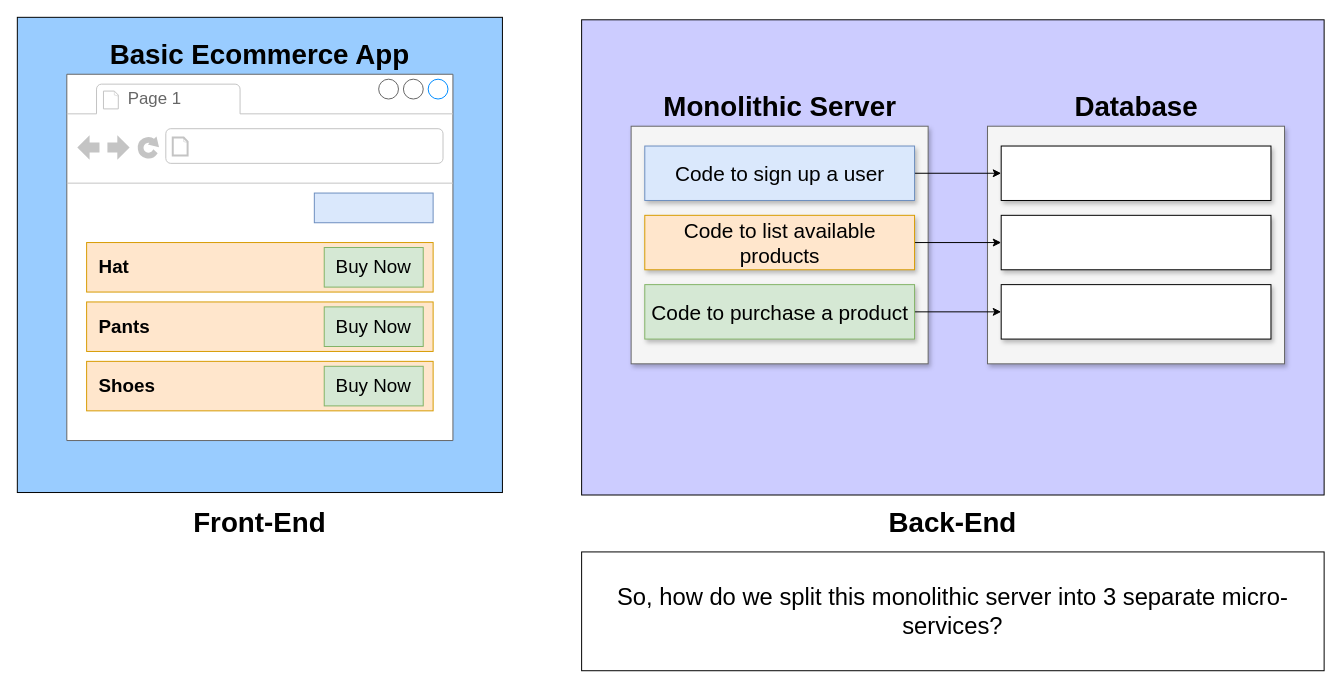
Some shapes in this 1341 by 688 pixel diagram are drawn without their labels. The shapes that lost their labels are listed below. From the top down, each one's centre as x and y in pixels, then its label:
point 319,146: https://www.ecomm.com
point 1136,174: User Collection
point 373,207: Sign Up
point 1136,243: Products Collection
point 1136,313: Orders Collection
